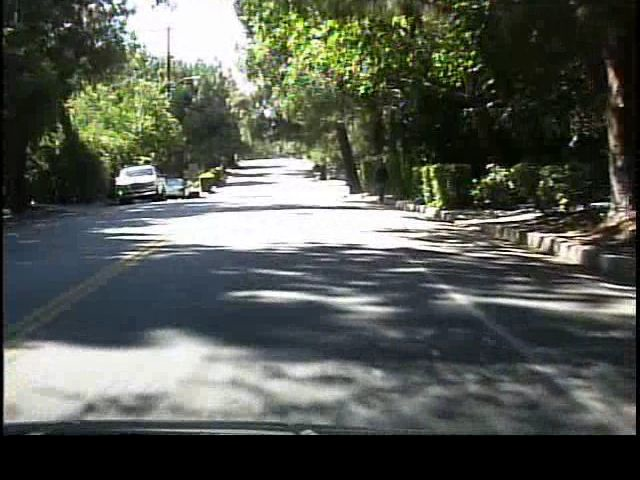person: (373, 155, 392, 208)
